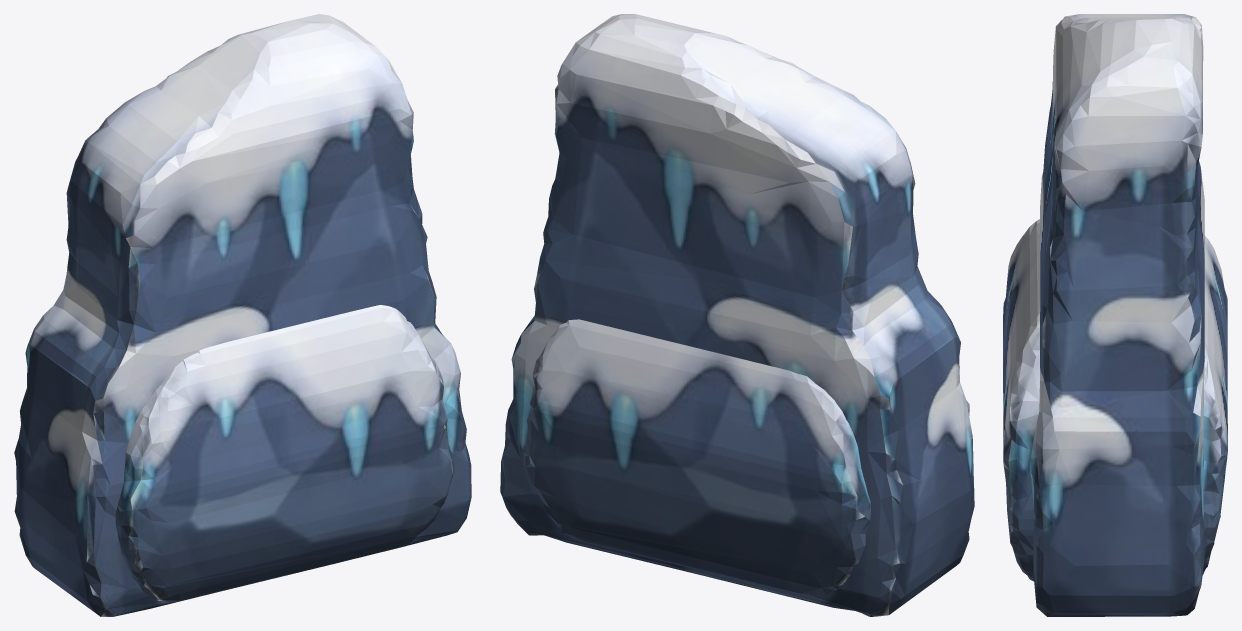
Rendered from rocks_glacier.glb.
3 views of the same model, side by side, from view 1: azimuth 30°, elevation 25°; view 2: azimuth 150°, elevation 25°; view 3: azimuth 270°, elevation 25° (orthographic). The views are drawn at different scales.
Parts seen in each view (by area): view 1: rock_tall, rock_round; view 2: rock_tall, rock_round; view 3: rock_tall, rock_round.
Boxes of the visible parts, x1,y1,x2,y2 form: rock_tall: (14,14,471,616); rock_round: (115,305,454,601); rock_tall: (500,14,974,616); rock_round: (523,319,870,595); rock_tall: (1030,14,1204,616); rock_round: (1003,219,1227,581).
Size of the model in its own units: 1.2 by 1.47 by 0.5666.
1 material, 1 textured.
